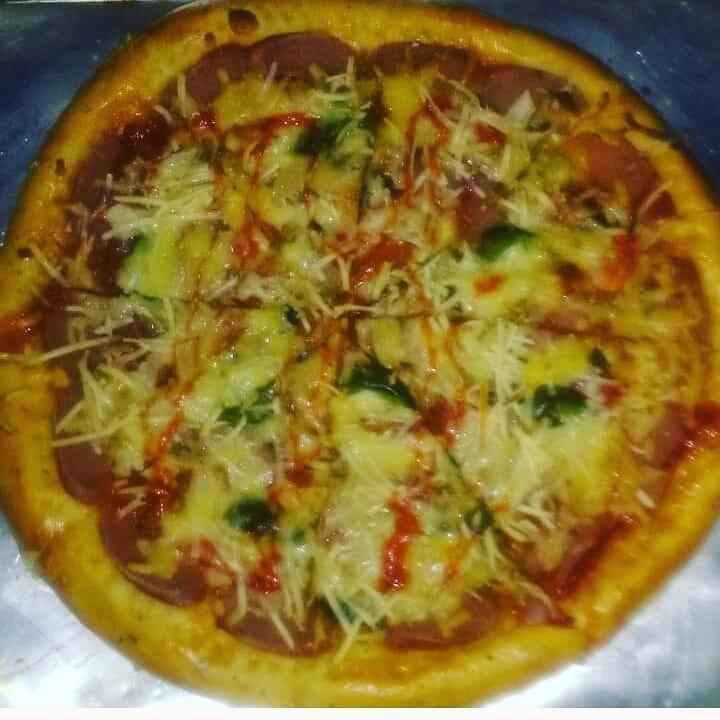Pizza: (0, 0, 720, 708)
